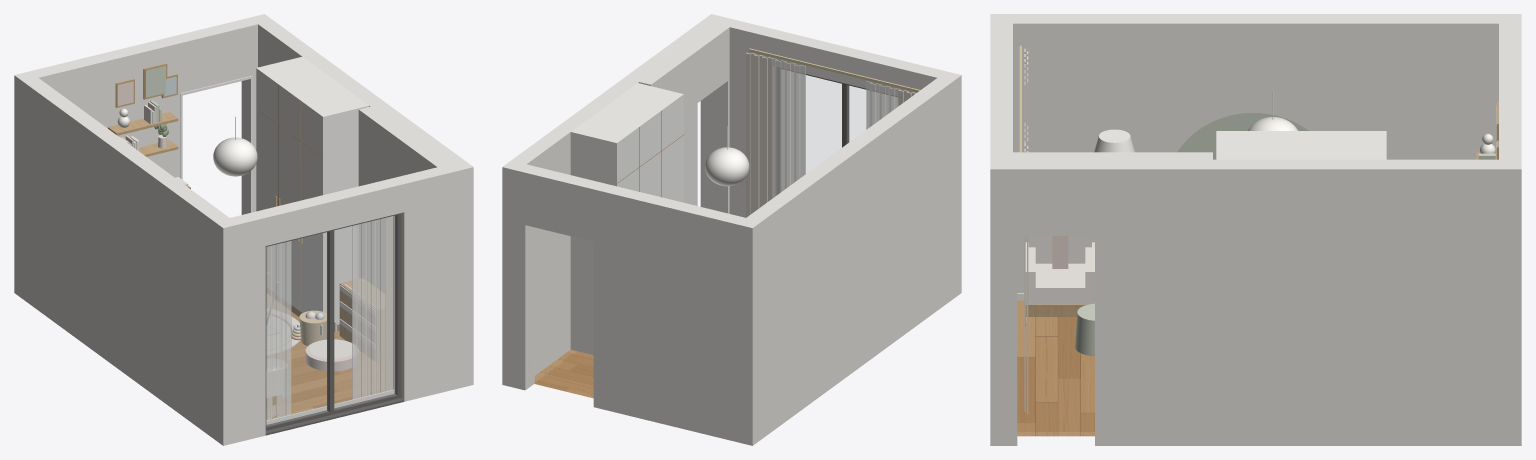
File: detska.glb
3 renders of one model, left to right at view 1: azimuth 30°, elevation 25°; view 2: azimuth 150°, elevation 25°; view 3: azimuth 270°, elevation 25°, orthographic. The views are drawn at different scales.
Size of the model in its own units: 3.25 by 2.71 by 4.7.
Materials: 28 (3 with a texture image).
